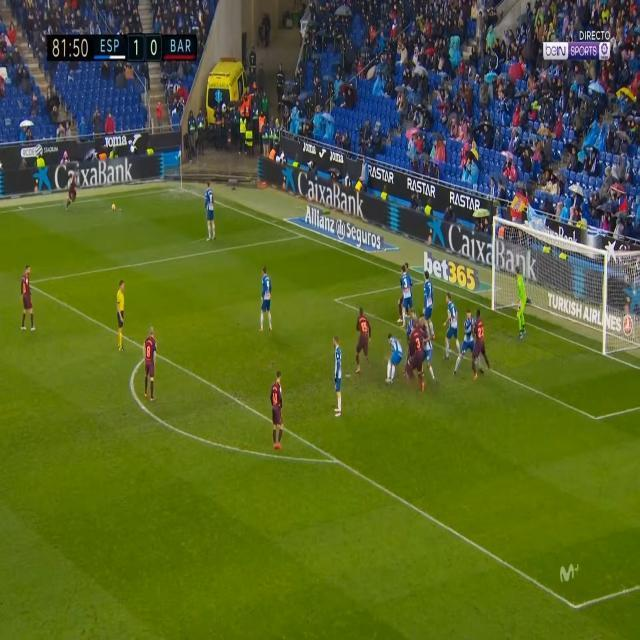ball: (111, 202, 120, 213)
goalkeeper: (509, 261, 533, 342)
player: (265, 367, 291, 454), (325, 332, 350, 419), (464, 314, 491, 384), (352, 303, 377, 378), (139, 324, 162, 404), (255, 264, 279, 337), (18, 261, 40, 334), (442, 296, 463, 370), (406, 322, 427, 385), (385, 328, 406, 388), (397, 262, 417, 325), (201, 180, 220, 244), (422, 273, 440, 337), (64, 163, 82, 213)
referee: (112, 274, 133, 357)
